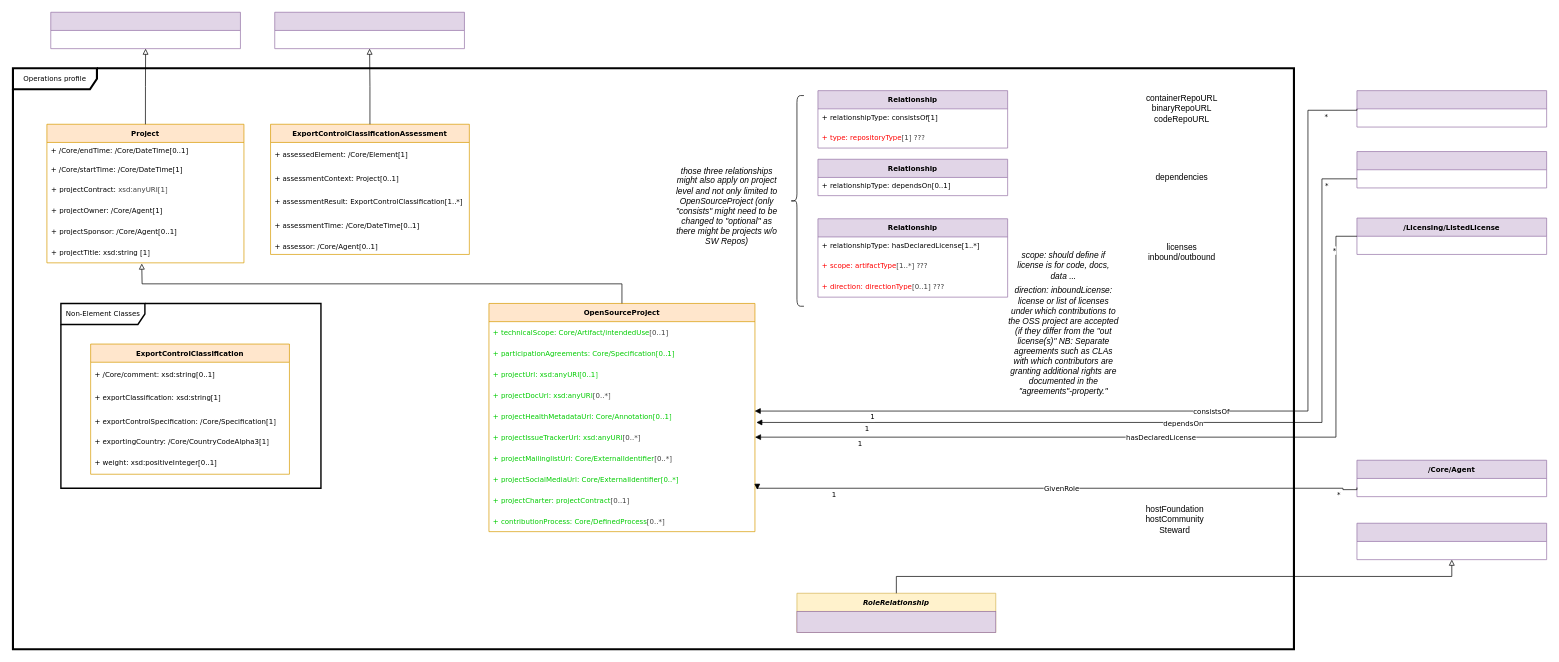
Some shapes in this 1559 by 662 pixel diagram are drawn without their labels. The shapes that lost their labels are listed below. From the top down, each one's centre as x and y in pixels, then its label:
the point at 145,30: /Core/Bundle
the point at 369,30: /Core/Artifact
the point at 1451,108: /Software/Package
the point at 1451,169: /Core/Bom
the point at 1451,541: /Core/Relationship
the point at 896,621: + /Core/Relationship/GivenRole: Agent[0..1]
